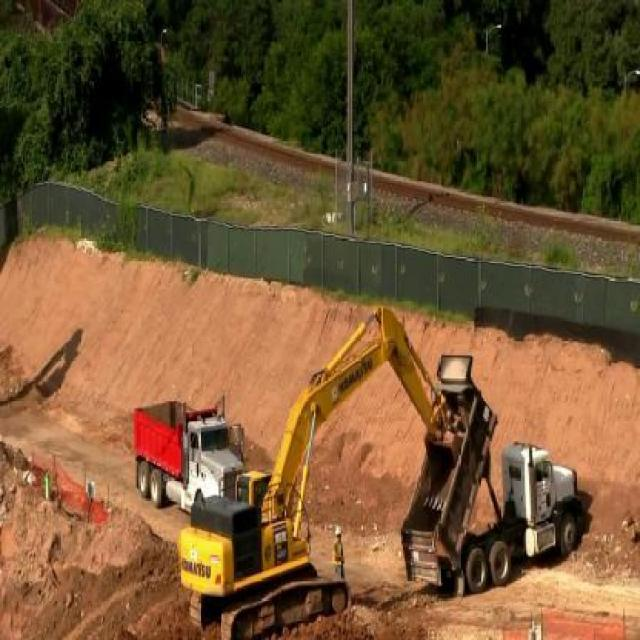Dump Truck: (399, 354, 583, 603), (133, 391, 239, 509)
Excavator: (174, 301, 463, 636)
